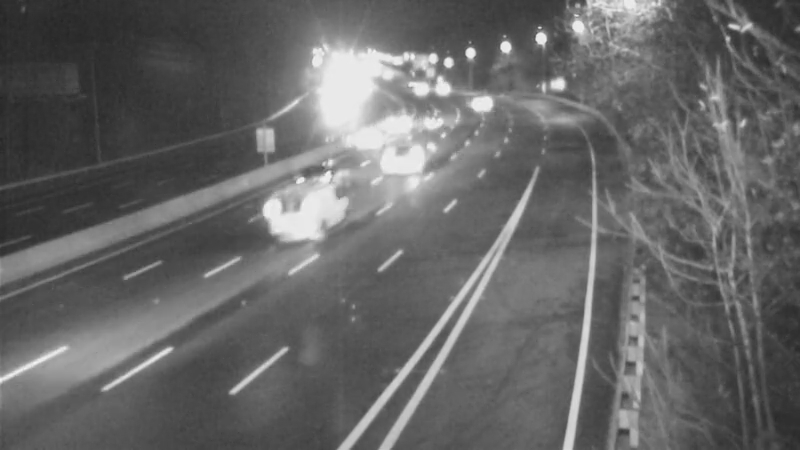vehicle: (368, 120, 448, 200), (272, 131, 352, 211), (256, 169, 336, 249), (415, 64, 465, 114), (387, 64, 437, 114), (461, 75, 511, 125), (411, 89, 461, 139), (373, 96, 423, 146), (346, 115, 396, 165)
